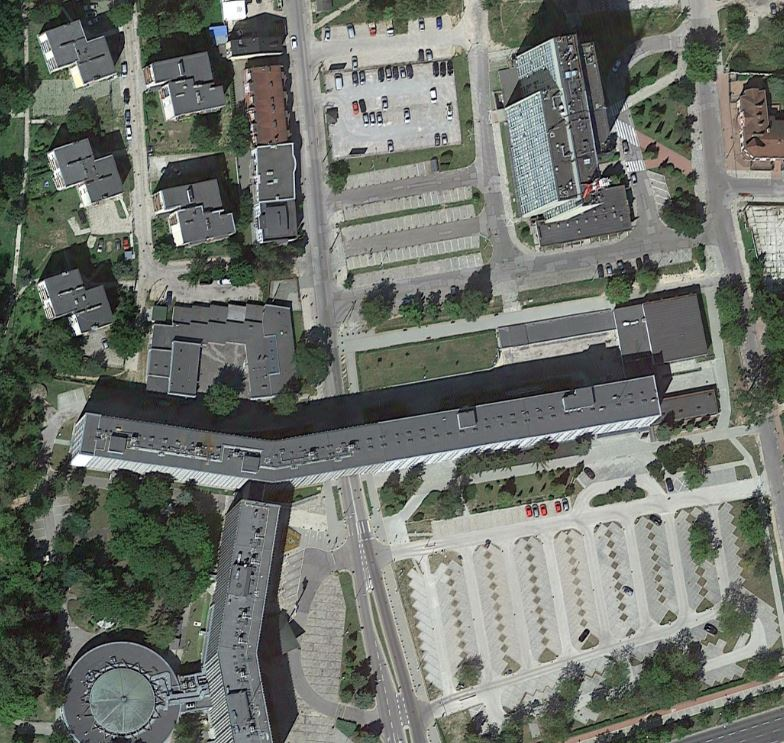block of flats: (64, 368, 672, 502), (57, 492, 299, 743), (501, 30, 641, 256), (136, 291, 307, 406), (235, 63, 313, 252), (137, 48, 235, 121), (30, 15, 126, 87), (152, 173, 237, 251), (33, 264, 123, 336), (45, 136, 124, 211)
